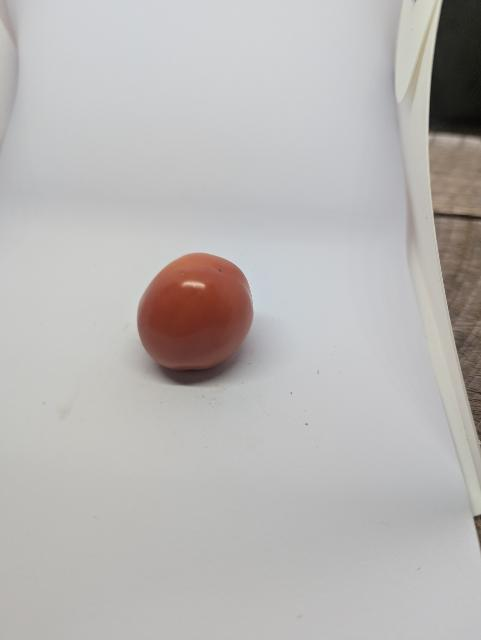red: (134, 243, 267, 382)
